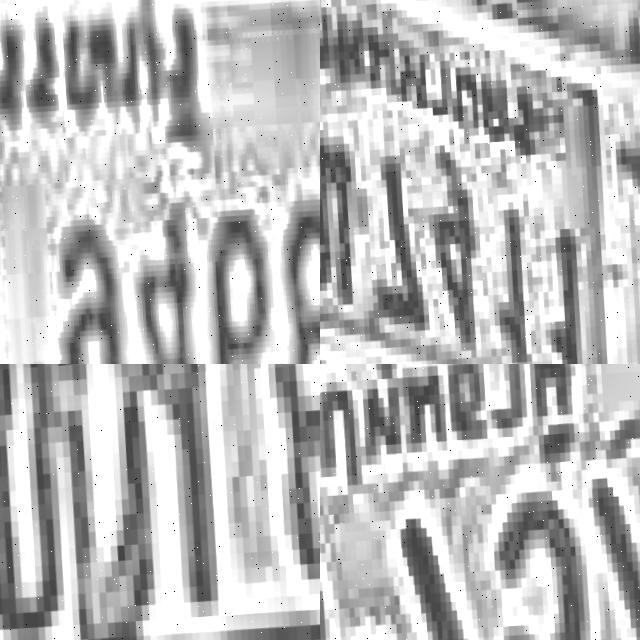license-plate: (0, 0, 320, 364), (320, 0, 640, 364), (0, 364, 320, 640), (320, 364, 640, 640)
